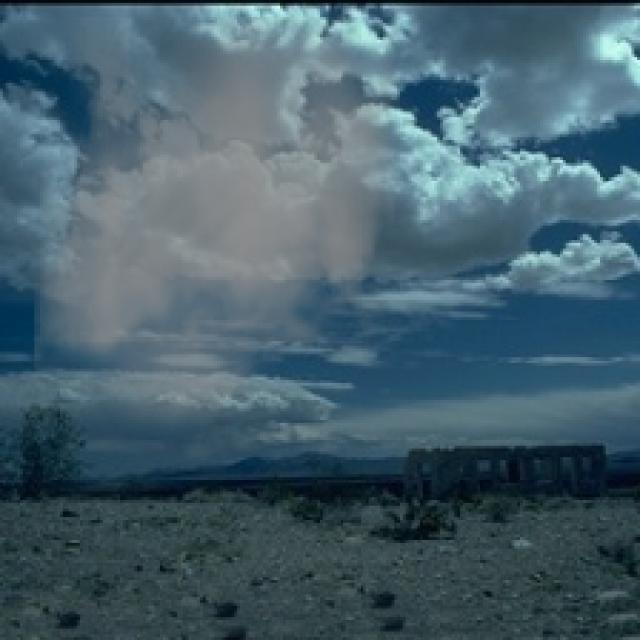smoke: (34, 17, 400, 443)
